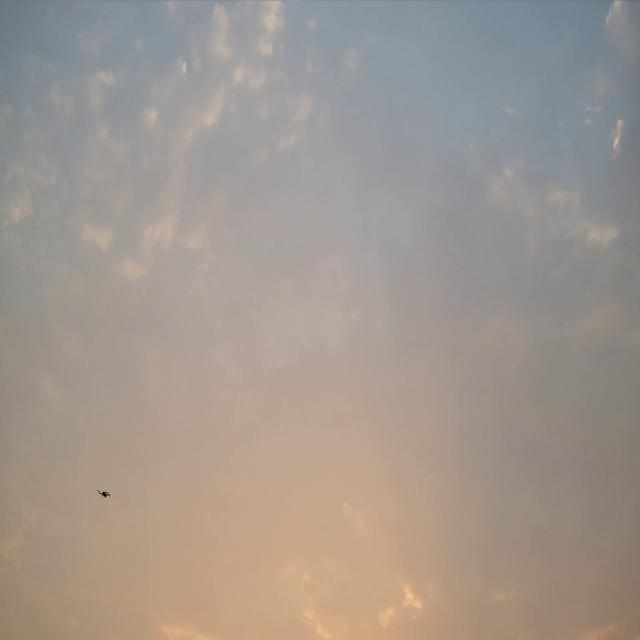drone: (97, 489, 111, 499)
